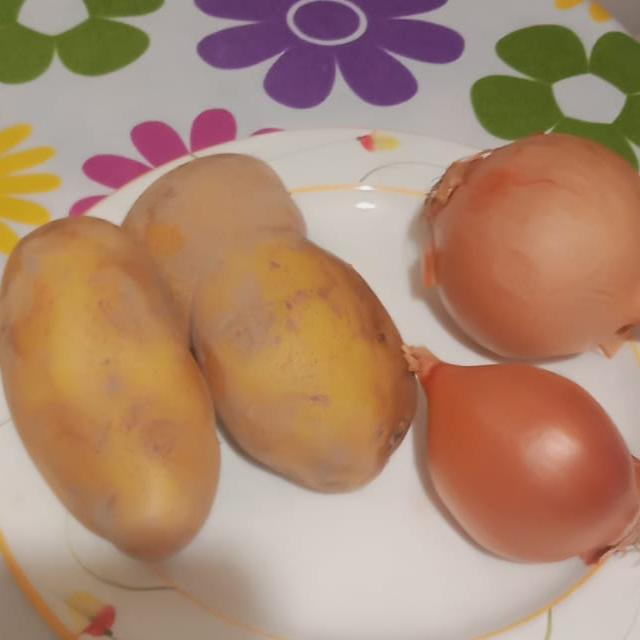onion: (402, 337, 640, 600), (409, 122, 640, 365)
potato: (0, 200, 234, 567), (177, 215, 420, 495)
